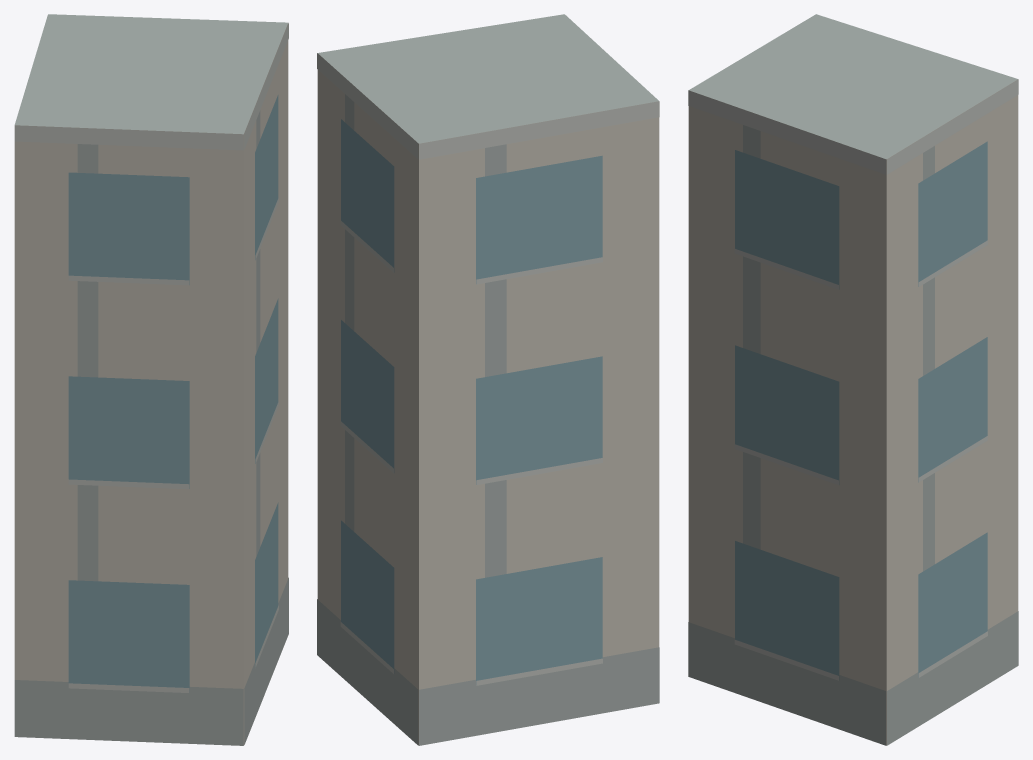
File: survey-upis-33012830.glb
3 views of the same model, side by side, from view 1: azimuth 30°, elevation 25°; view 2: azimuth 150°, elevation 25°; view 3: azimuth 270°, elevation 25° (orthographic). The views are drawn at different scales.
Visible parts, largest first — view 1: survey-upis-33012830.tmp; view 2: survey-upis-33012830.tmp; view 3: survey-upis-33012830.tmp.
Boxes of the visible parts, <box> form: survey-upis-33012830.tmp: <box>14,14,288,745</box>; survey-upis-33012830.tmp: <box>317,14,659,745</box>; survey-upis-33012830.tmp: <box>688,14,1018,745</box>.
Size of the model in its own units: 4.87 by 9.15 by 4.67.
